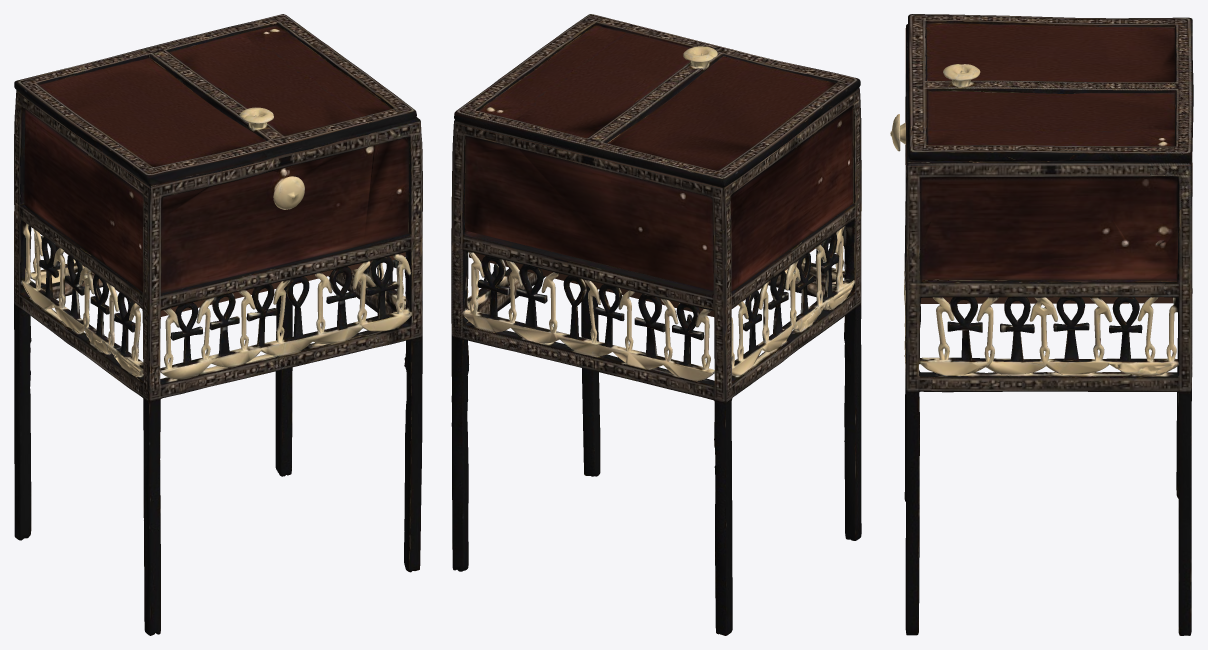
The model's file is headrest-cabinet.glb.
3 views of the same model, side by side, from view 1: azimuth 30°, elevation 25°; view 2: azimuth 150°, elevation 25°; view 3: azimuth 270°, elevation 25° (orthographic). The views are drawn at different scales.
Visible parts, largest first — view 1: cabinet-body, decorated-lid, cabinet-interior; view 2: cabinet-body, decorated-lid, cabinet-interior; view 3: cabinet-body, decorated-lid, cabinet-interior.
Part boxes in pixels (x1=…): cabinet-body: x1=14, y1=90, x2=422, y2=635; decorated-lid: x1=14, y1=14, x2=420, y2=188; cabinet-interior: x1=32, y1=227, x2=405, y2=316; cabinet-body: x1=451, y1=90, x2=861, y2=635; decorated-lid: x1=454, y1=14, x2=860, y2=188; cabinet-interior: x1=469, y1=232, x2=836, y2=316; cabinet-body: x1=890, y1=74, x2=1192, y2=635; decorated-lid: x1=906, y1=14, x2=1193, y2=165; cabinet-interior: x1=920, y1=297, x2=1173, y2=303.
Bounding box in the file's own units: 0.4271 × 0.6997 × 0.3866.
Materials: 3 (1 with a texture image).
